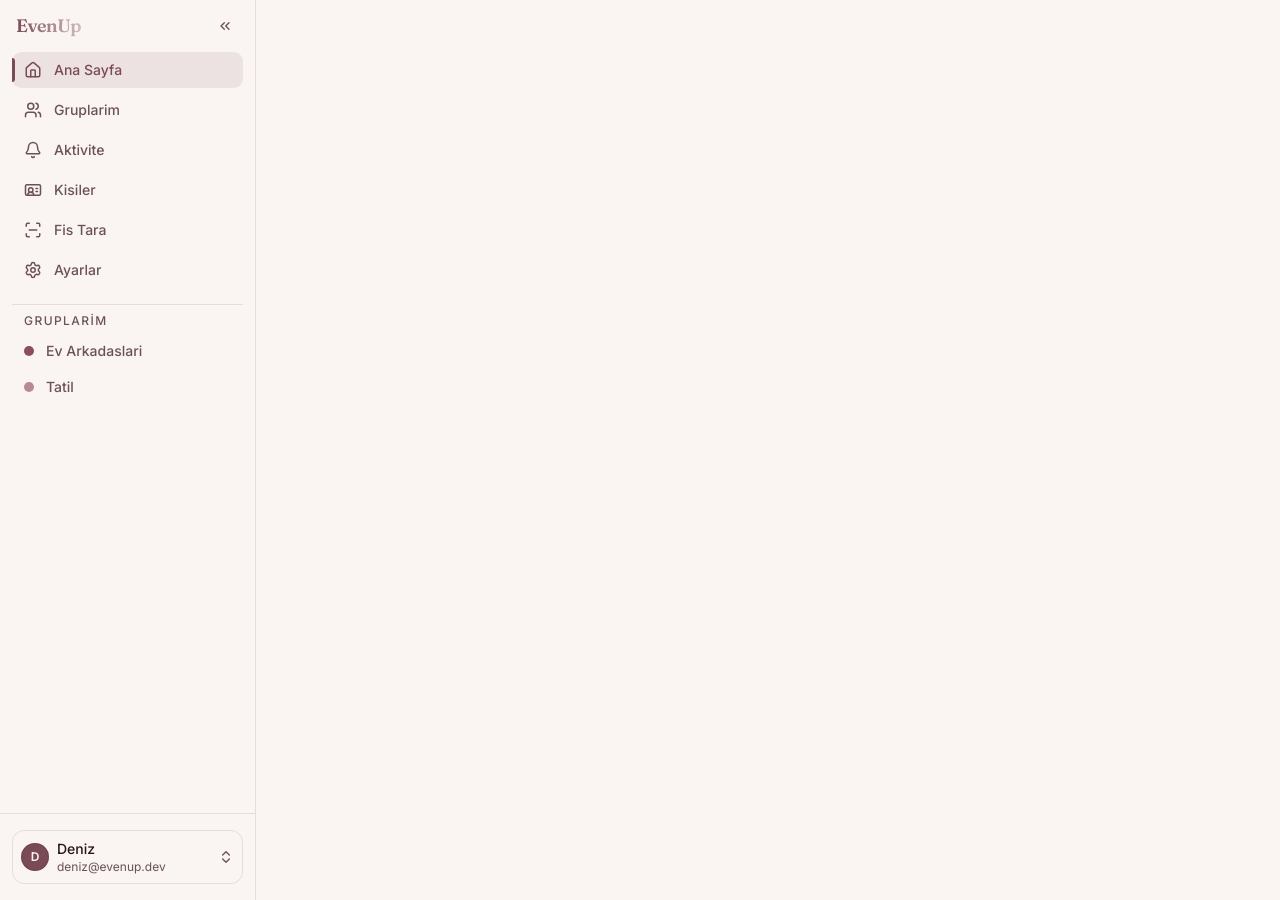
Test: Sidebar — hesap menusu › acilinca tema ve cikis secenekleri cikar
This screenshot has width=1280, height=900.
Press the mouse on the button with aria-label "Hesap menusu" at (128,857), box [12, 830, 243, 884]
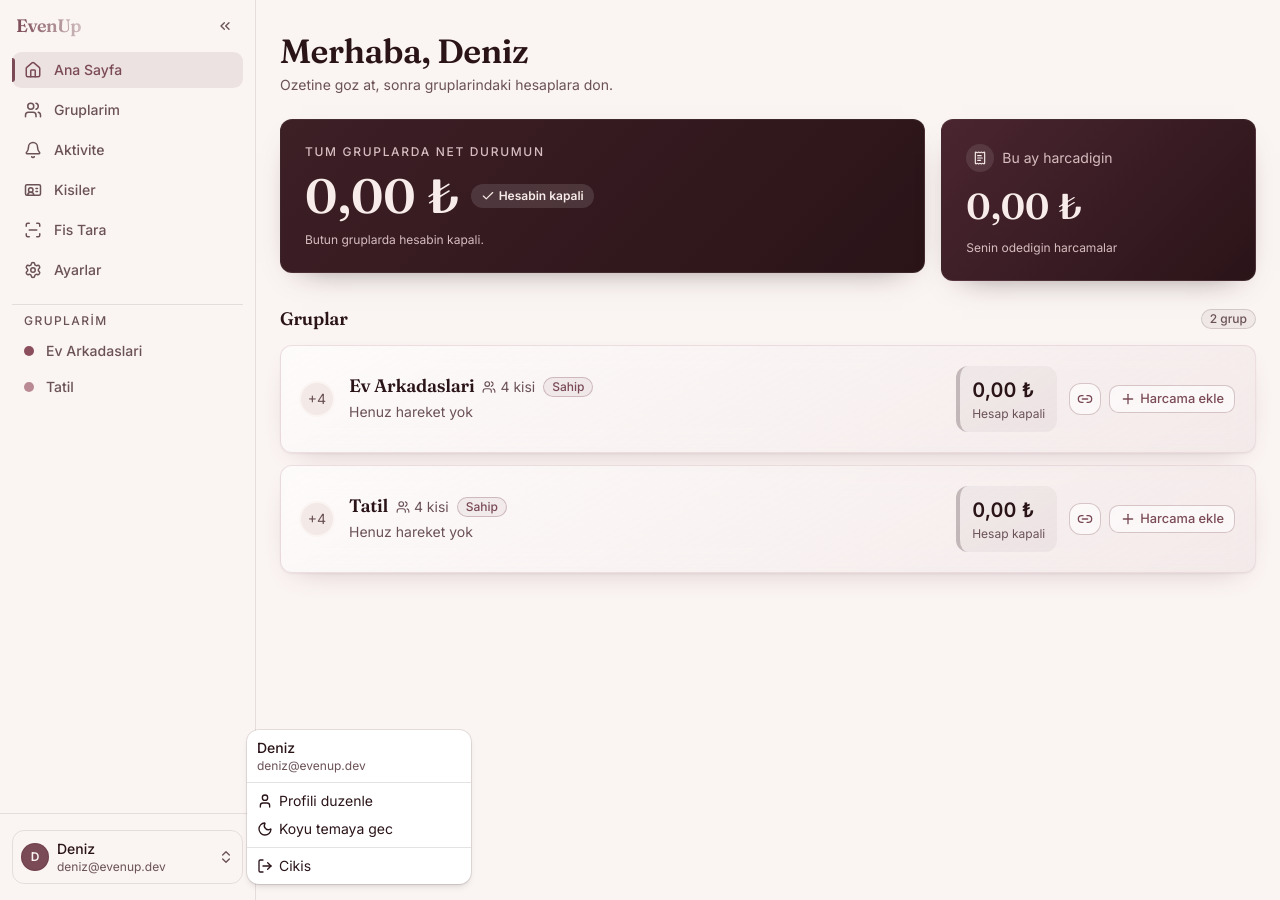
Check: the menu item "Koyu temaya gec" is shown, box [257, 820, 393, 837]
Check: the menu item "Cikis" is shown, box [257, 857, 311, 874]
